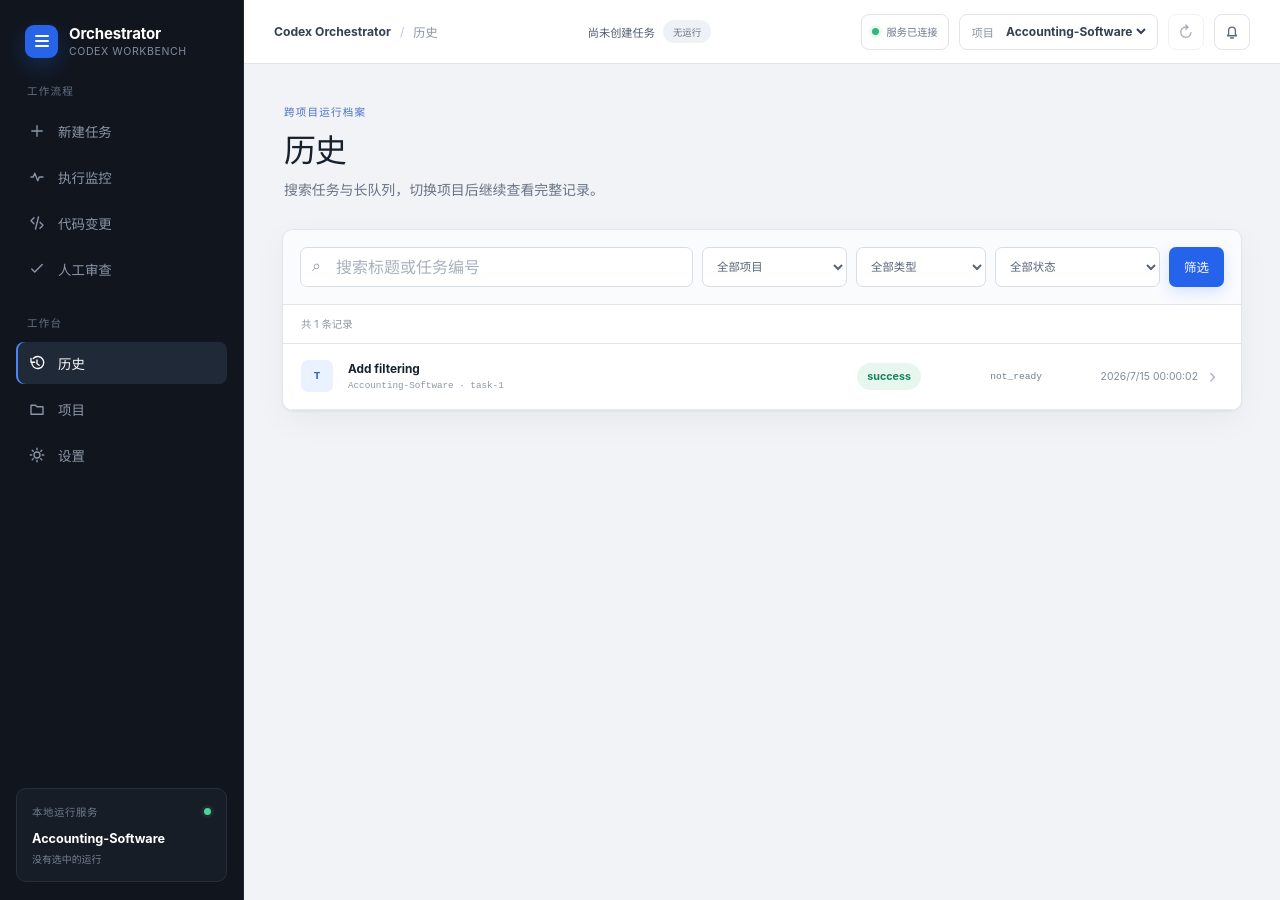
Test: App workbench › filters cross-project history and opens the selected record
This screenshot has width=1280, height=900.
Type "filtering" into the field labelled "⌕". click: (496, 267)
box: [300,247,693,287]
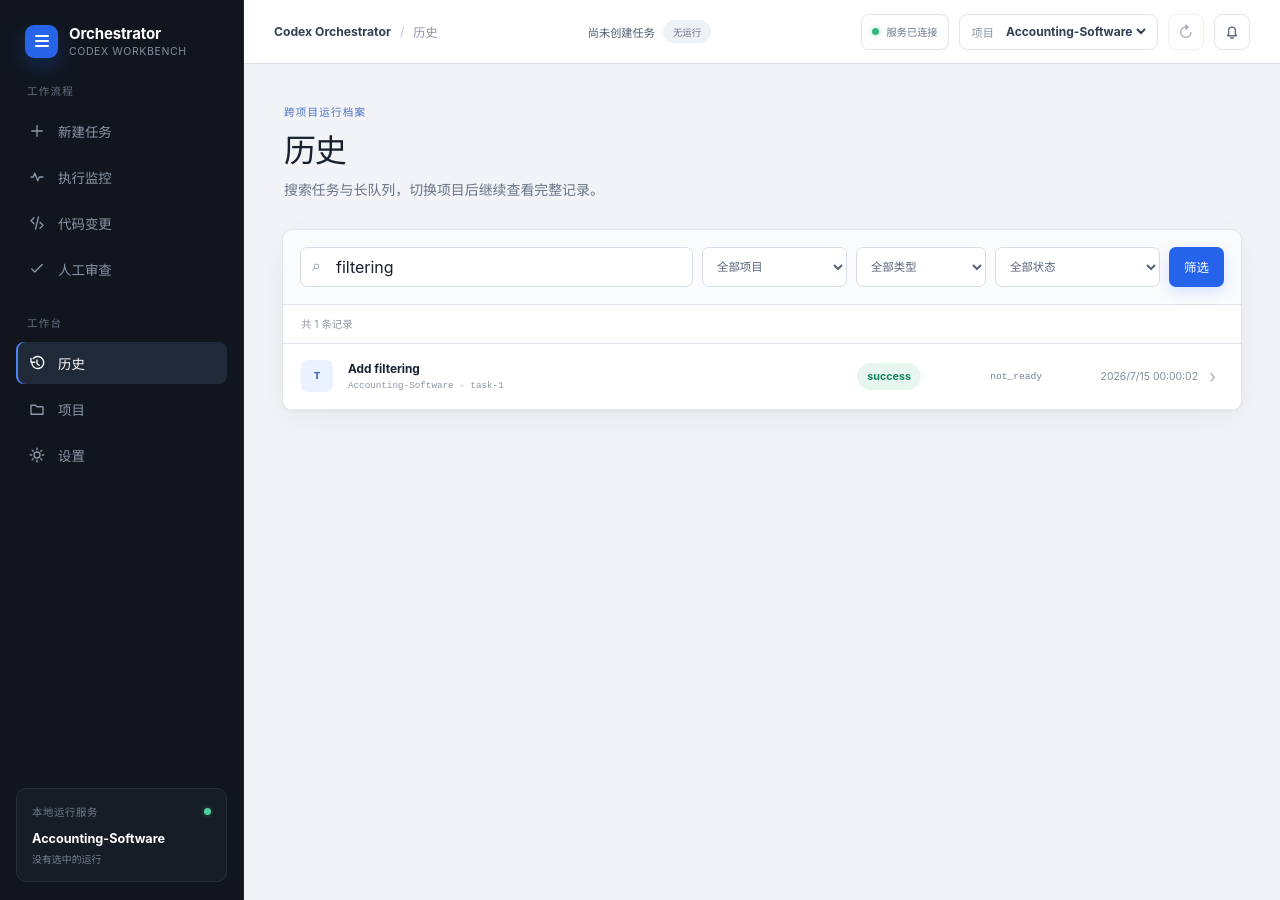
Submit the form with class "filter-bar", box [283,230,1241,305]
Click the button that starts with "Add filtering". click: click(317, 376)
box: [283,344,1241,410]
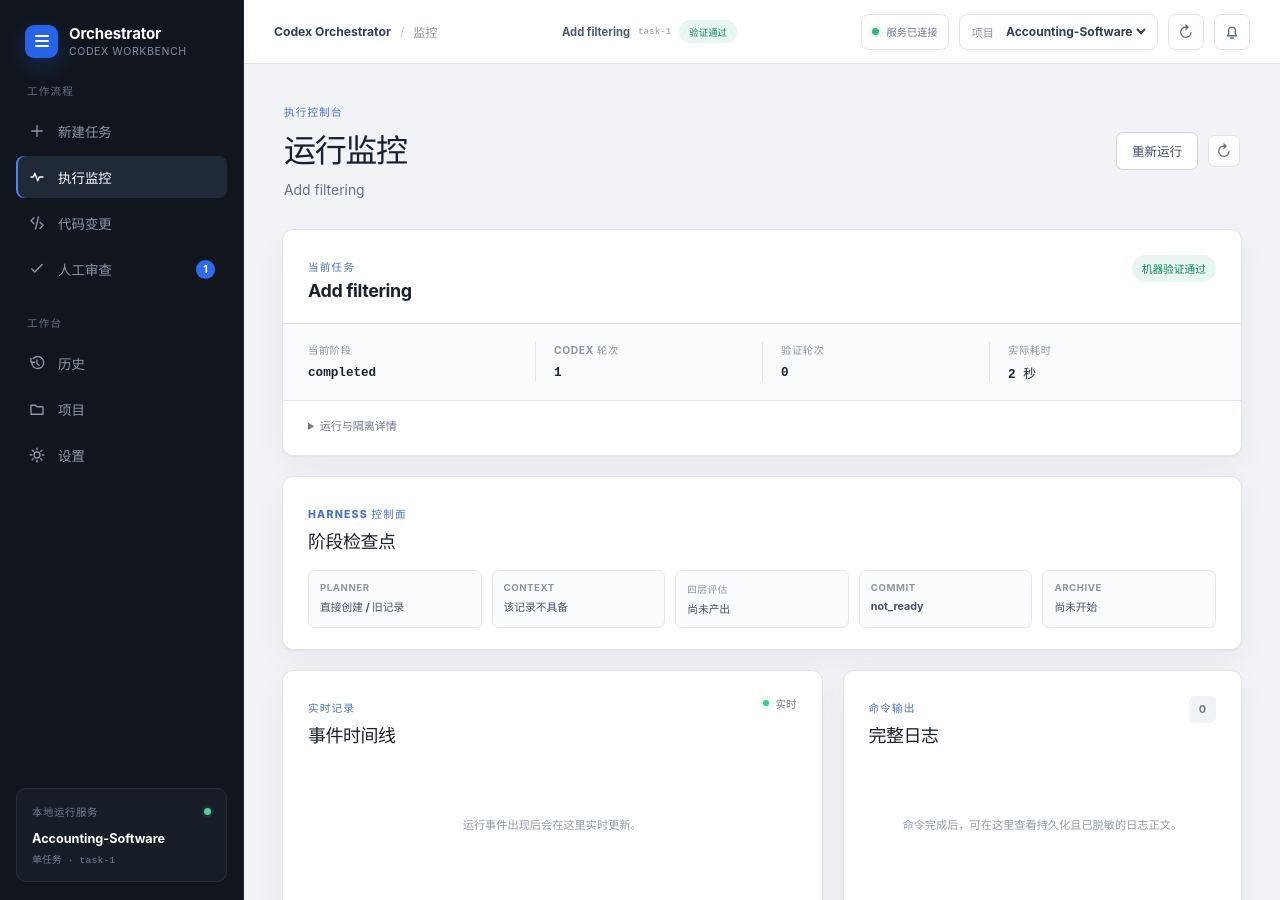
Result: the element with test id "task-status" shows "Add filtering" at [308,280,412,301]
